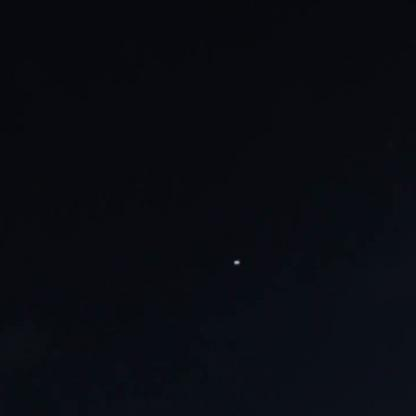ball: (226, 254, 245, 266)
